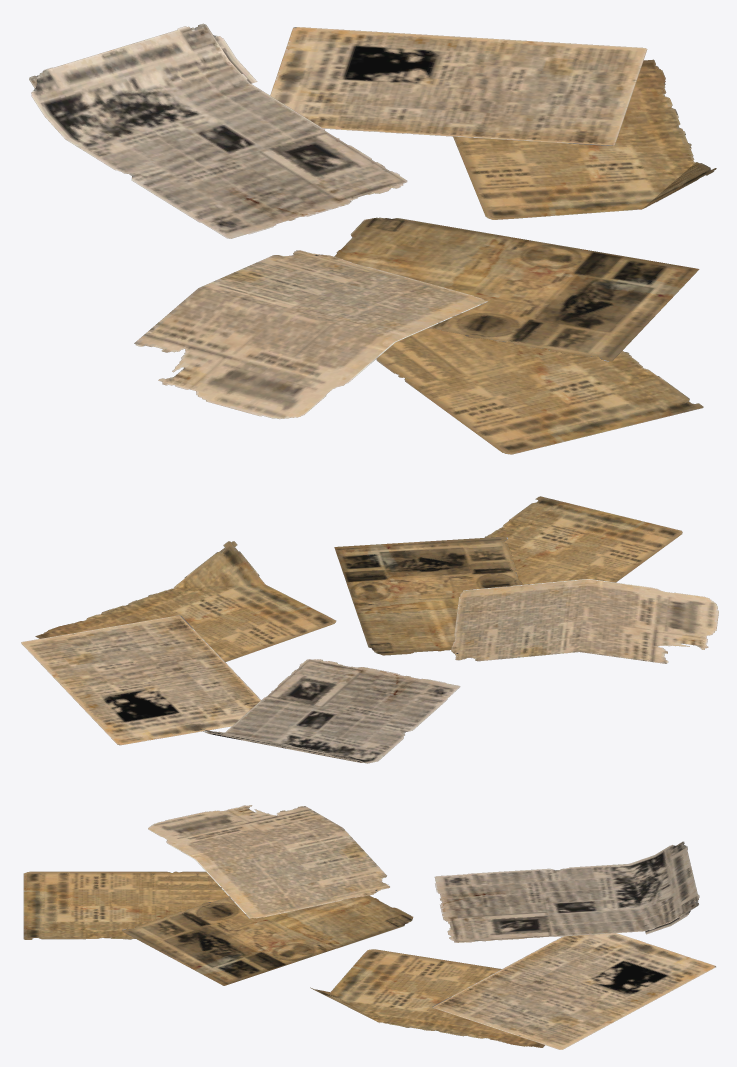
File: Prop_PaperB.fbx
3 renders of one model, top to bottom at view 1: azimuth 30°, elevation 25°; view 2: azimuth 150°, elevation 25°; view 3: azimuth 270°, elevation 25°, orthographic. The views are drawn at different scales.
Parts seen in each view (by area): view 1: Plane; view 2: Plane; view 3: Plane.
Part boxes in pixels (left/top/right/bottom): Plane: left=29, top=23, right=716, bottom=454; Plane: left=21, top=496, right=718, bottom=763; Plane: left=23, top=805, right=715, bottom=1049.
Bounding box in the file's own units: 3.56 × 0.1929 × 4.11.
